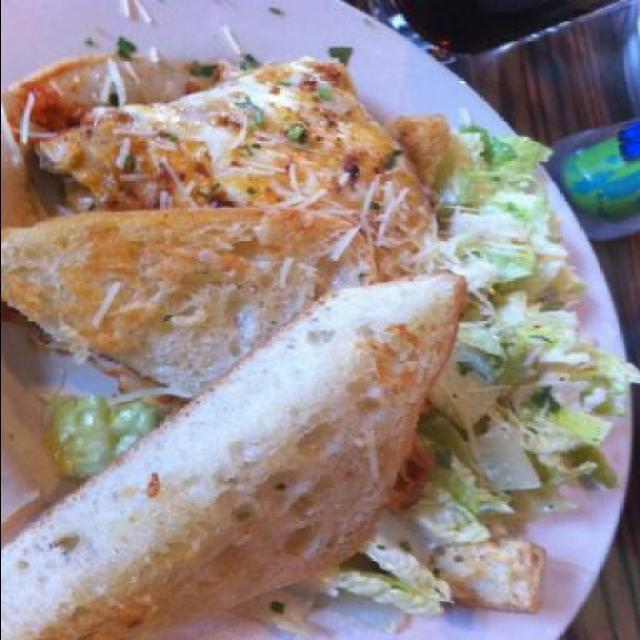Lasagna: (46, 32, 420, 204)
